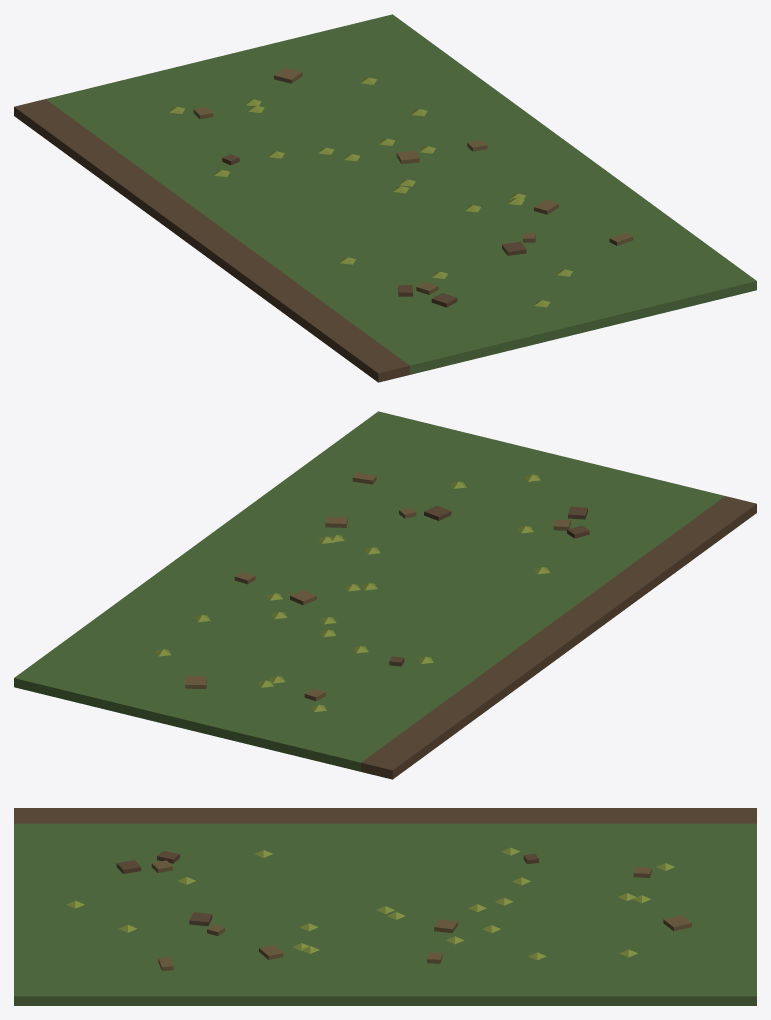
The model's file is env_r6_verge.glb.
3 renders of one model, top to bottom at view 1: azimuth 30°, elevation 25°; view 2: azimuth 150°, elevation 25°; view 3: azimuth 270°, elevation 25°, orthographic.
Parts seen in each view (by area): view 1: env_r6_verge; view 2: env_r6_verge; view 3: env_r6_verge.
Boxes of the visible parts, x1,y1,x2,y2 form: env_r6_verge: [14, 14, 756, 382]; env_r6_verge: [14, 411, 756, 779]; env_r6_verge: [14, 808, 756, 1005].
Bounding box in the file's own units: 6 × 0.2 × 10.
Materials: 1 (1 with a texture image).
